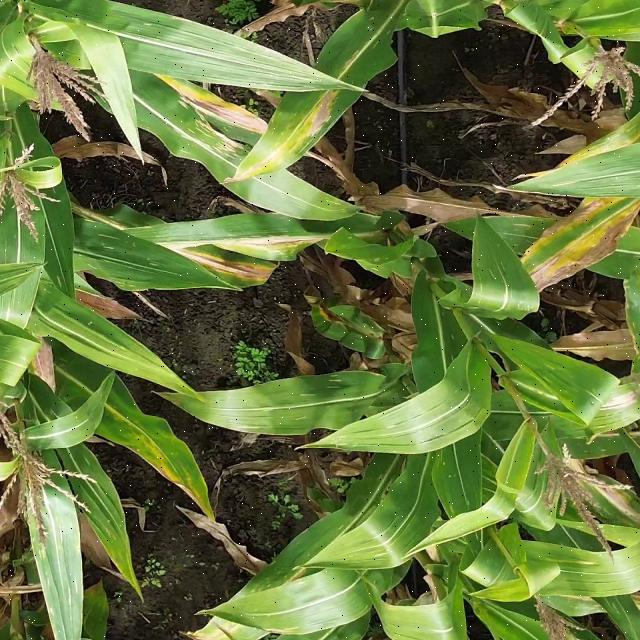gray-leaf-spot: (75, 223, 174, 290), (40, 527, 85, 623), (286, 374, 352, 424), (175, 109, 230, 164), (474, 238, 516, 306), (436, 306, 466, 369), (486, 532, 526, 566)
northern-leaf-blight: (200, 212, 322, 259), (178, 84, 265, 142), (575, 470, 640, 527), (188, 245, 262, 293), (296, 75, 344, 141), (589, 383, 640, 424)
southern-leaf-blight: (390, 408, 461, 443), (249, 562, 304, 598)
